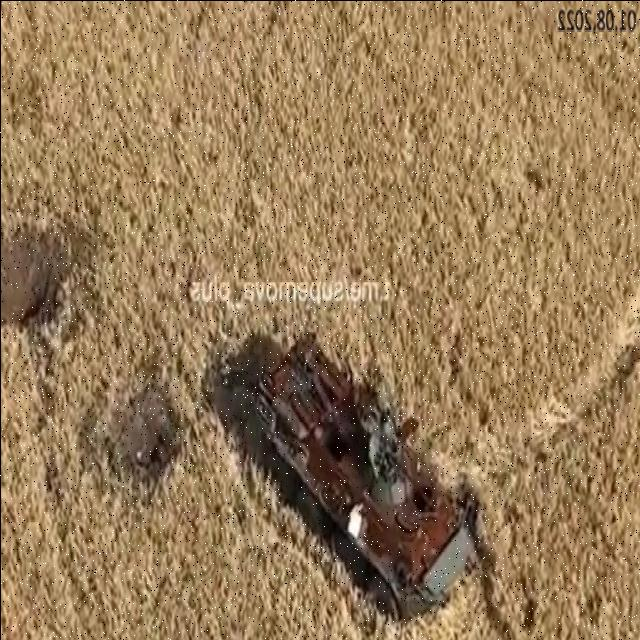APC-IFV: (242, 304, 478, 626)
